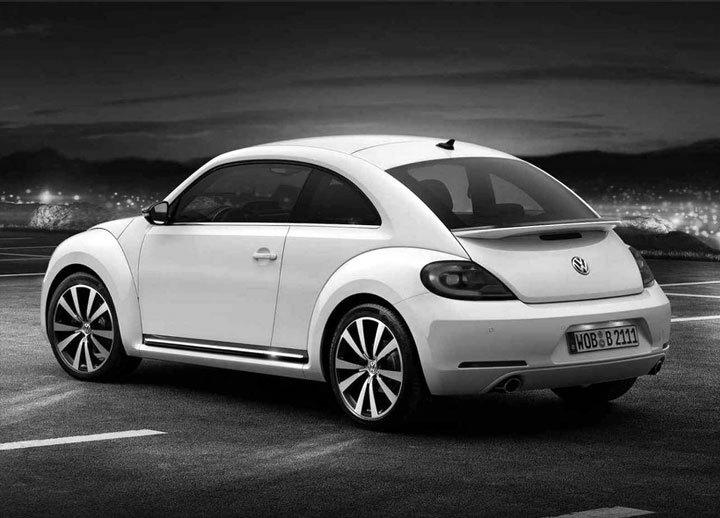car: (41, 132, 672, 431)
